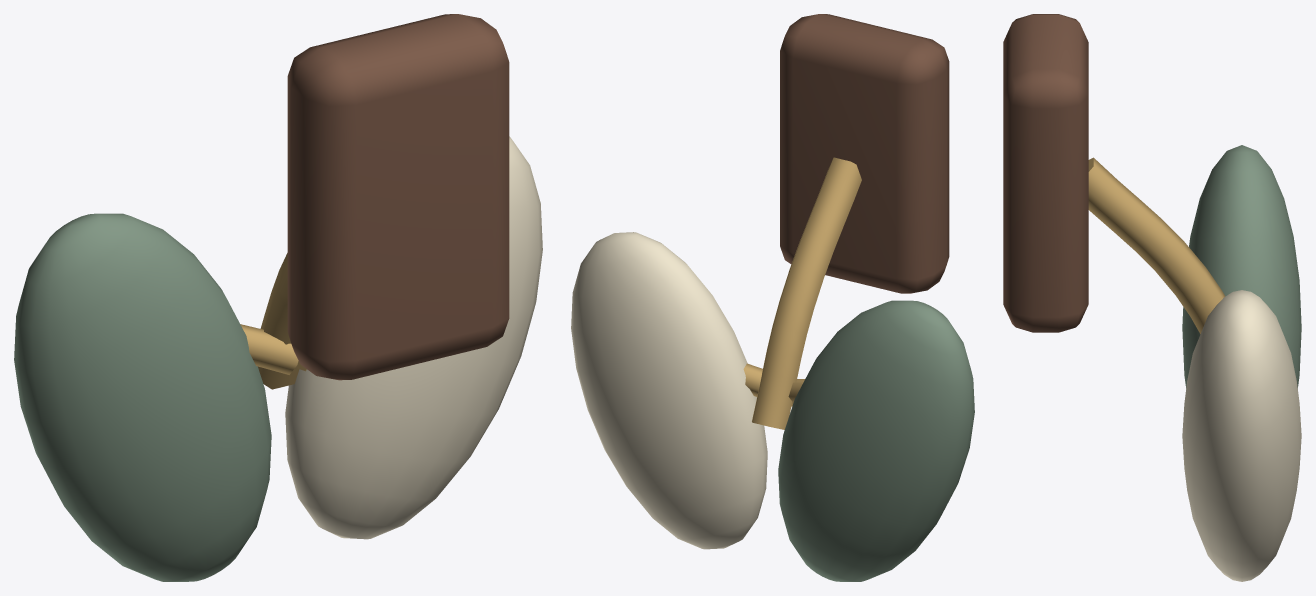
Rendered from sconce.leaf-new.glb.
3 views of the same model, side by side, from view 1: azimuth 30°, elevation 25°; view 2: azimuth 150°, elevation 25°; view 3: azimuth 270°, elevation 25° (orthographic). The views are drawn at different scales.
Visible parts, largest first — view 1: Rounded wall escutcheon; view 2: Rounded wall escutcheon; view 3: Rounded wall escutcheon.
Boxes of the visible parts, x1,y1,x2,y2 form: Rounded wall escutcheon: (14,14,542,581); Rounded wall escutcheon: (571,14,974,581); Rounded wall escutcheon: (1003,14,1301,581).
Size of the model in its own units: 0.5728 by 0.6444 by 0.35.
